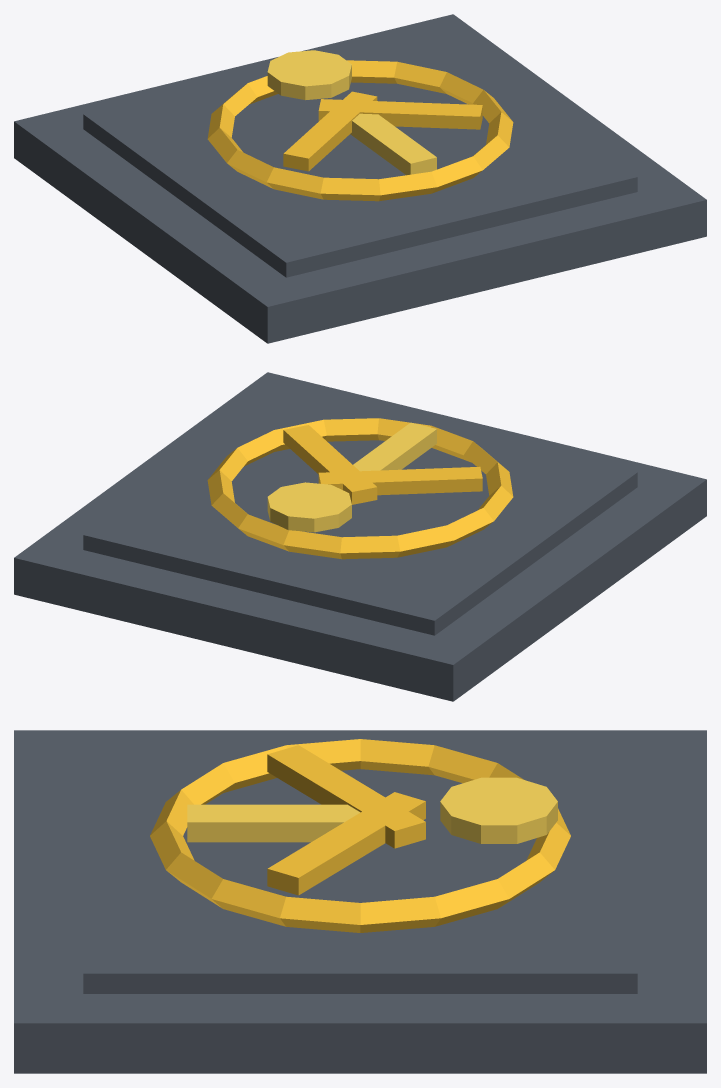
The model's file is TD_UpgradeTile.fbx.
3 views of the same model, one above another, from view 1: azimuth 30°, elevation 25°; view 2: azimuth 150°, elevation 25°; view 3: azimuth 270°, elevation 25° (orthographic). The views are drawn at different scales.
Parts seen in each view (by area): view 1: TD_UpgradeTile_BasePlate, TD_UpgradeTile_Surface, TD_UpgradeTile_UpgradeRing, TD_UpgradeTile_GoldCore, TD_UpgradeTile_UpgradeChevron_Right, TD_UpgradeTile_UpgradeStem, TD_UpgradeTile_UpgradeChevron_Left; view 2: TD_UpgradeTile_BasePlate, TD_UpgradeTile_Surface, TD_UpgradeTile_UpgradeRing, TD_UpgradeTile_GoldCore, TD_UpgradeTile_UpgradeChevron_Left, TD_UpgradeTile_UpgradeChevron_Right, TD_UpgradeTile_UpgradeStem; view 3: TD_UpgradeTile_BasePlate, TD_UpgradeTile_Surface, TD_UpgradeTile_UpgradeRing, TD_UpgradeTile_GoldCore, TD_UpgradeTile_UpgradeStem, TD_UpgradeTile_UpgradeChevron_Left, TD_UpgradeTile_UpgradeChevron_Right.
Part boxes in pixels (<box>): TD_UpgradeTile_BasePlate: <box>14,14,706,343</box>; TD_UpgradeTile_Surface: <box>83,28,637,277</box>; TD_UpgradeTile_UpgradeRing: <box>207,60,513,201</box>; TD_UpgradeTile_GoldCore: <box>267,50,351,100</box>; TD_UpgradeTile_UpgradeChevron_Right: <box>318,99,482,129</box>; TD_UpgradeTile_UpgradeStem: <box>350,113,436,175</box>; TD_UpgradeTile_UpgradeChevron_Left: <box>283,91,377,171</box>; TD_UpgradeTile_BasePlate: <box>14,372,706,701</box>; TD_UpgradeTile_Surface: <box>83,386,637,635</box>; TD_UpgradeTile_UpgradeRing: <box>207,418,513,559</box>; TD_UpgradeTile_GoldCore: <box>267,482,351,532</box>; TD_UpgradeTile_UpgradeChevron_Left: <box>318,466,482,495</box>; TD_UpgradeTile_UpgradeChevron_Right: <box>283,425,377,504</box>; TD_UpgradeTile_UpgradeStem: <box>353,422,436,471</box>; TD_UpgradeTile_BasePlate: <box>14,730,706,1073</box>; TD_UpgradeTile_Surface: <box>83,739,637,993</box>; TD_UpgradeTile_UpgradeRing: <box>150,739,570,932</box>; TD_UpgradeTile_GoldCore: <box>440,777,557,843</box>; TD_UpgradeTile_UpgradeStem: <box>187,804,360,842</box>; TD_UpgradeTile_UpgradeChevron_Left: <box>267,745,425,848</box>; TD_UpgradeTile_UpgradeChevron_Right: <box>267,792,425,895</box>.
Bounding box in the file's own units: 100 × 20 × 100.
